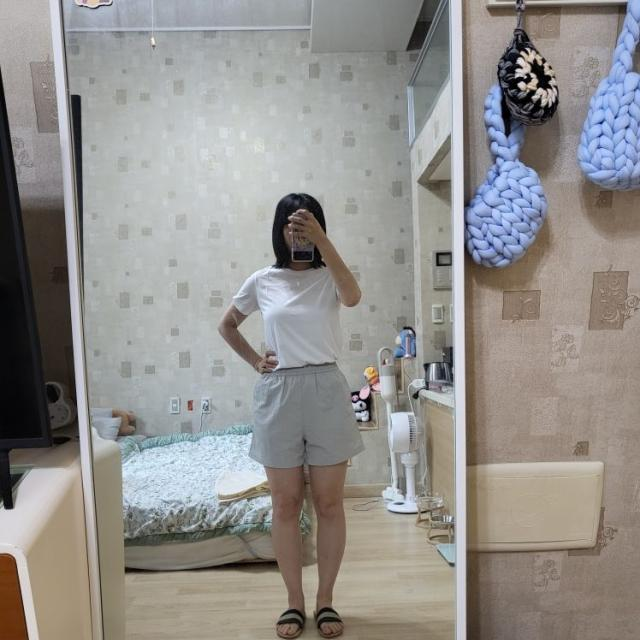shortpants: (247, 364, 363, 468)
shortsleeve: (231, 263, 346, 366)
